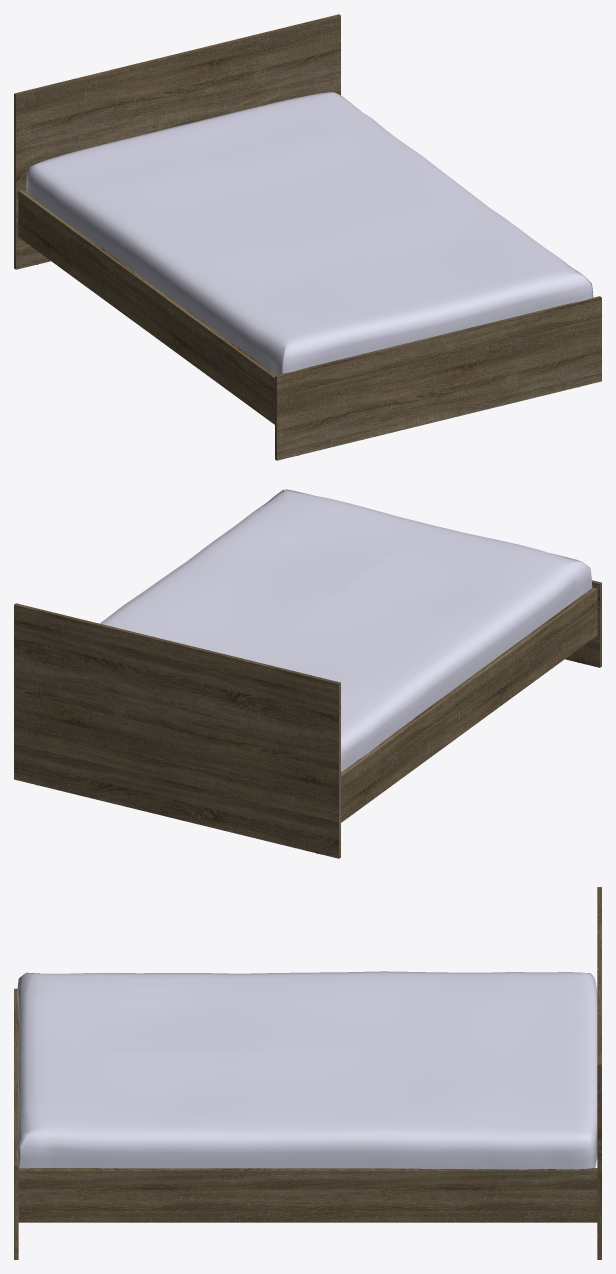
The model's file is ilona_sb_3078.glb.
3 renders of one model, top to bottom at view 1: azimuth 30°, elevation 25°; view 2: azimuth 150°, elevation 25°; view 3: azimuth 270°, elevation 25°, orthographic. The views are drawn at different scales.
Visible parts, largest first — view 1: NT_pled, body; view 2: body, NT_pled; view 3: NT_pled, body.
Part boxes in pixels (x1,y1,x2,y2): NT_pled: (26,92,593,374); body: (14,14,601,460); body: (14,580,601,858); NT_pled: (100,489,592,772); NT_pled: (17,971,597,1169); body: (14,887,601,1259).
Bounding box in the file's own units: 0.0146 × 0.00754 × 0.0204.
3 materials, 1 textured.
